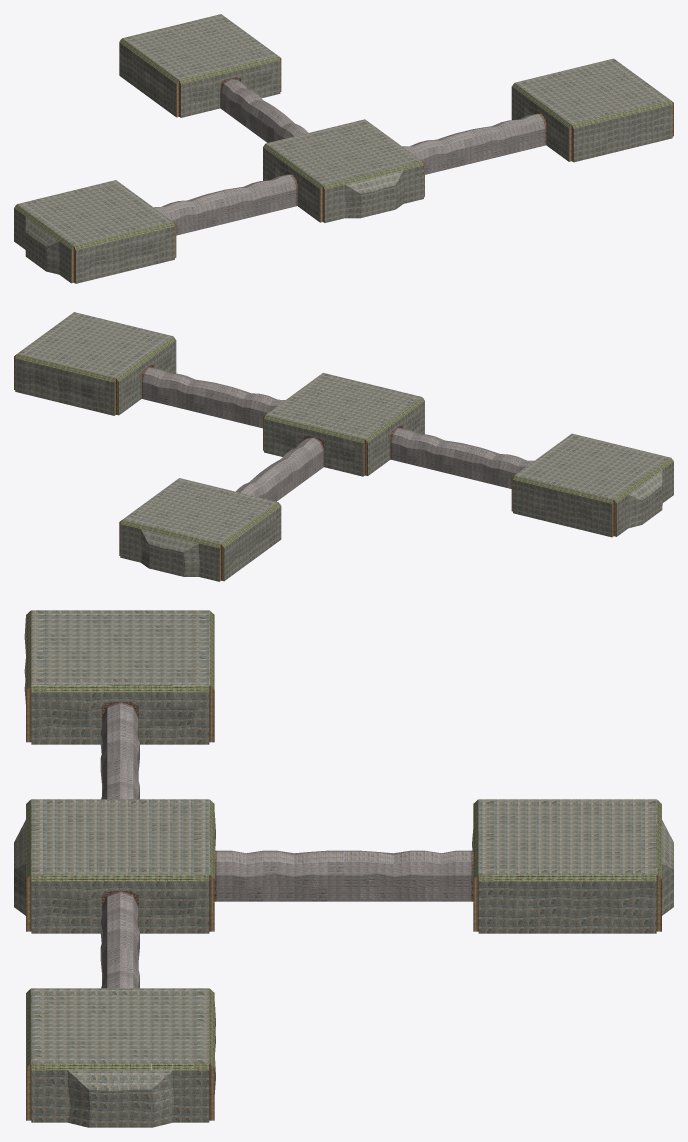
Rendered from map50Dungeon1.fbx.
The picture shows the model from 3 angles, top to bottom: view 1: azimuth 30°, elevation 25°; view 2: azimuth 150°, elevation 25°; view 3: azimuth 270°, elevation 25°; orthographic projection. The views are drawn at different scales.
Visible parts, largest first — view 1: map50M_Layer1_roof, map50D_Layer8, map50M_Layer1_right, map50M_Layer1_near, map50M_Layer2, map50M_Layer1_far, map50M_Layer1_left, map50M_Layer6, map50M_Layer3; view 2: map50M_Layer1_roof, map50D_Layer8, map50M_Layer1_left, map50M_Layer1_near, map50M_Layer2, map50M_Layer1_far, map50M_Layer1_right, map50M_Layer6, map50M_Layer3; view 3: map50M_Layer1_roof, map50D_Layer8, map50M_Layer1_far, map50M_Layer1_left, map50M_Layer2, map50M_Layer1_right, map50M_Layer6, map50M_Layer3.
Boxes of the visible parts, x1,y1,x2,y2 form: map50M_Layer1_roof: (17,14,670,245); map50D_Layer8: (155,83,536,235); map50M_Layer1_right: (181,60,568,222); map50M_Layer1_near: (76,42,319,283); map50M_Layer2: (14,38,672,250); map50M_Layer1_far: (573,105,672,162); map50M_Layer1_left: (14,208,71,282); map50M_Layer6: (15,56,673,283); map50M_Layer3: (154,79,545,212); map50M_Layer1_roof: (17,312,670,543); map50D_Layer8: (151,369,530,501); map50M_Layer1_left: (120,419,673,581); map50M_Layer1_near: (15,358,424,580); map50M_Layer2: (15,336,673,548); map50M_Layer1_far: (513,480,611,537); map50M_Layer1_right: (119,340,176,414); map50M_Layer6: (14,354,616,581); map50M_Layer3: (142,367,534,470); map50M_Layer1_roof: (31,610,656,1063); map50D_Layer8: (100,710,455,988); map50M_Layer1_far: (31,881,656,933); map50M_Layer1_left: (31,813,673,1127); map50M_Layer2: (26,610,661,1070); map50M_Layer1_right: (14,692,473,915); map50M_Layer6: (26,685,661,1120); map50M_Layer3: (102,703,471,914).
Bounding box in the file's own units: 4.95 × 0.2813 × 2.95.
